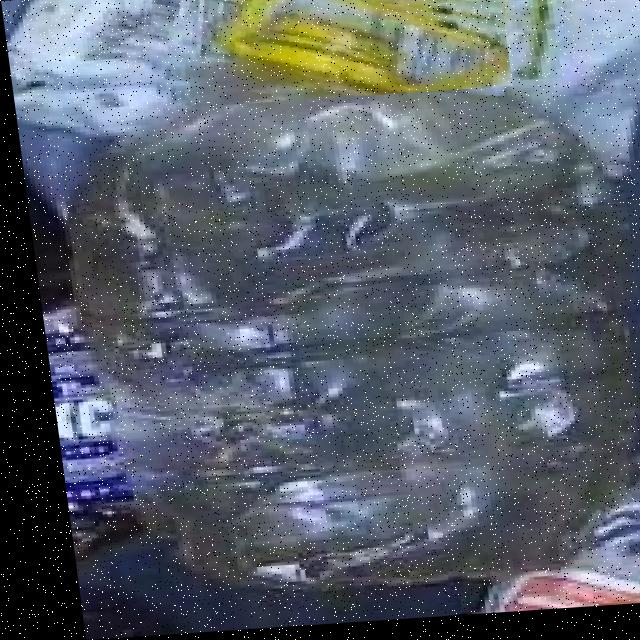litter: (134, 0, 508, 111)
